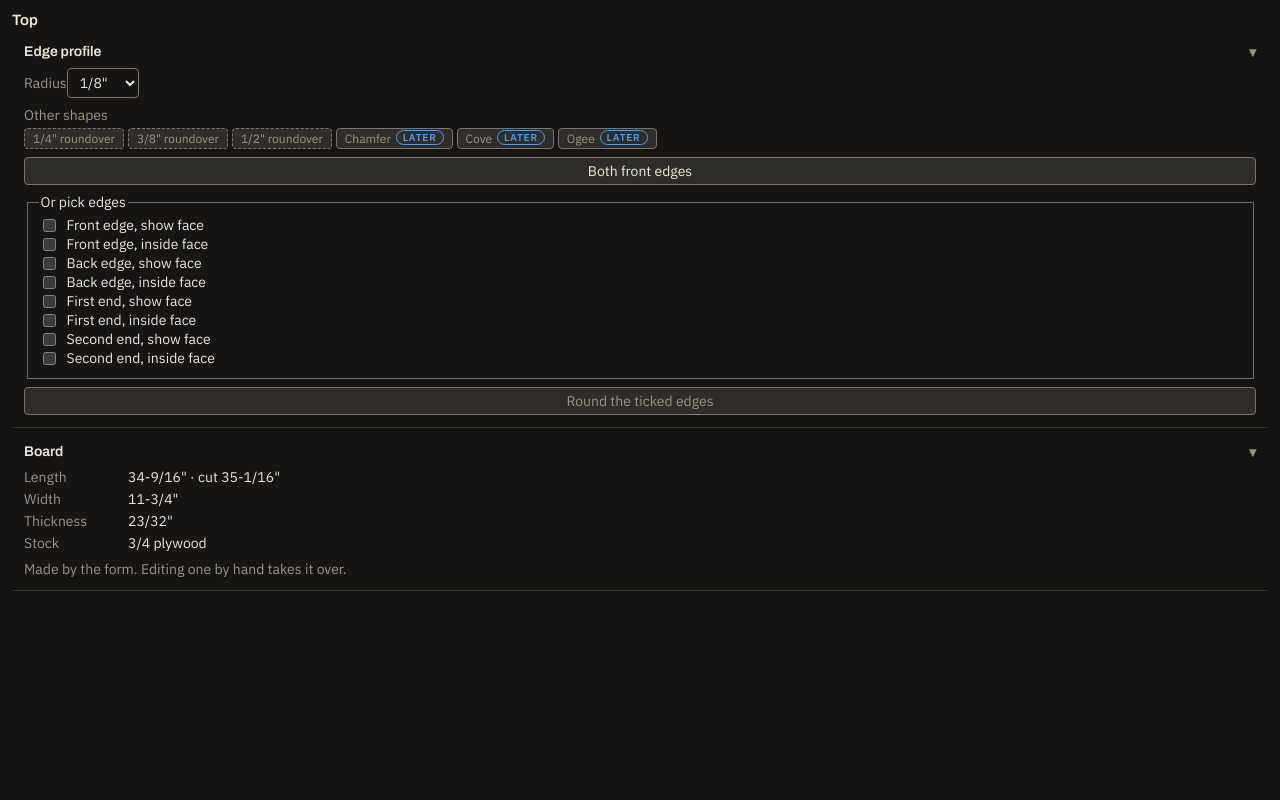
Test: <EdgePanel> › the shapes it offers › leaves the shop and the radius alone on No
The width and height of the screenshot is (1280, 800).
Click the button named "3/8\" roundover, not in your shop. Press to add it.".
click(178, 138)  # box [128, 128, 228, 149]
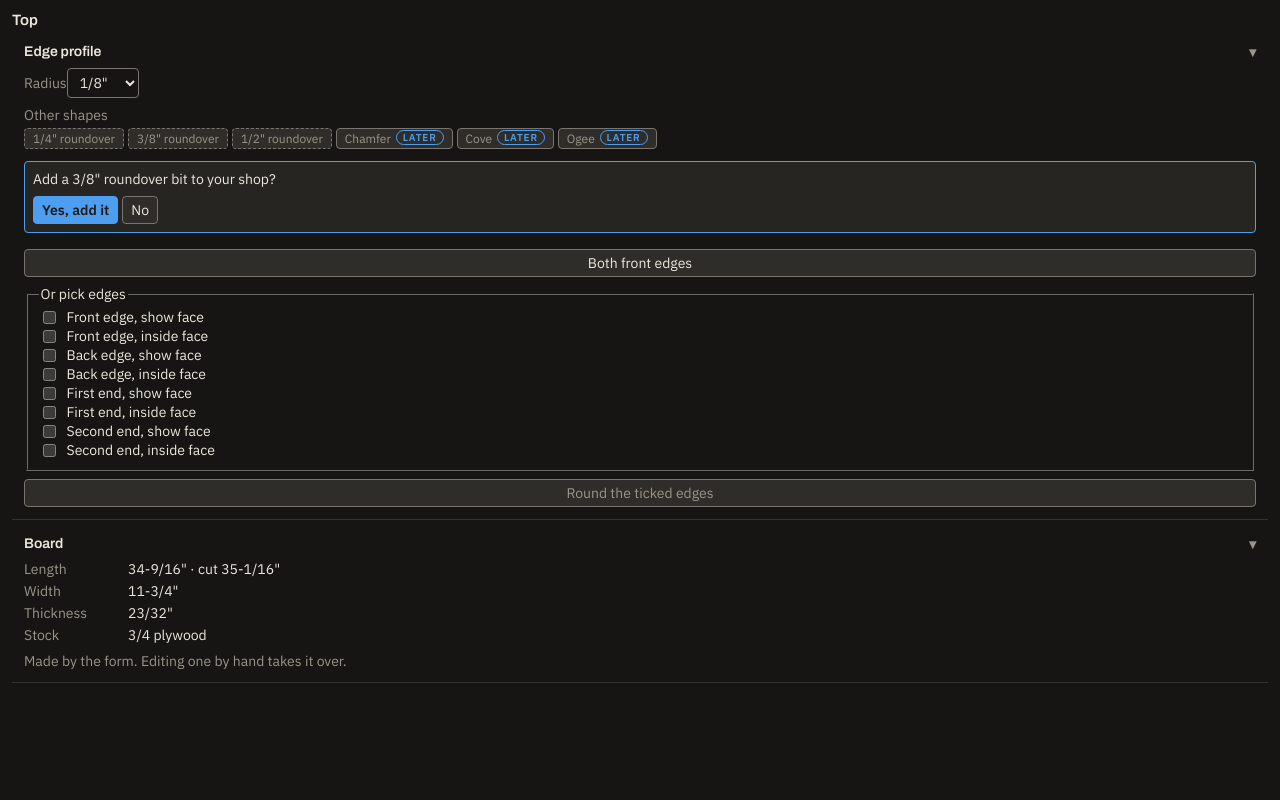
Click the button "No".
click(140, 210)  # box [122, 196, 158, 224]
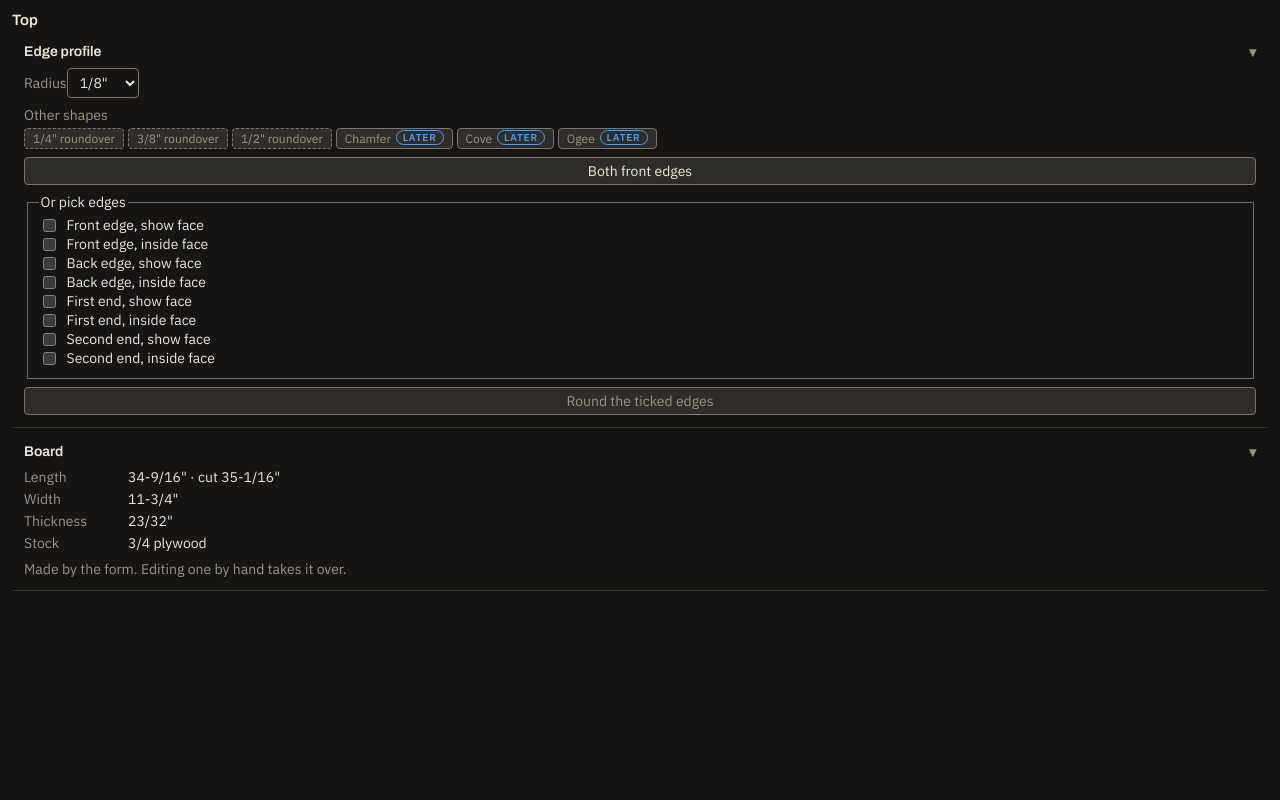
expect the dropdown labelled "Radius" shows "1/8\"": met, box [67, 68, 139, 98]
expect the text "Add a 3/8\" roundover bit to your shop?" is gone: met
